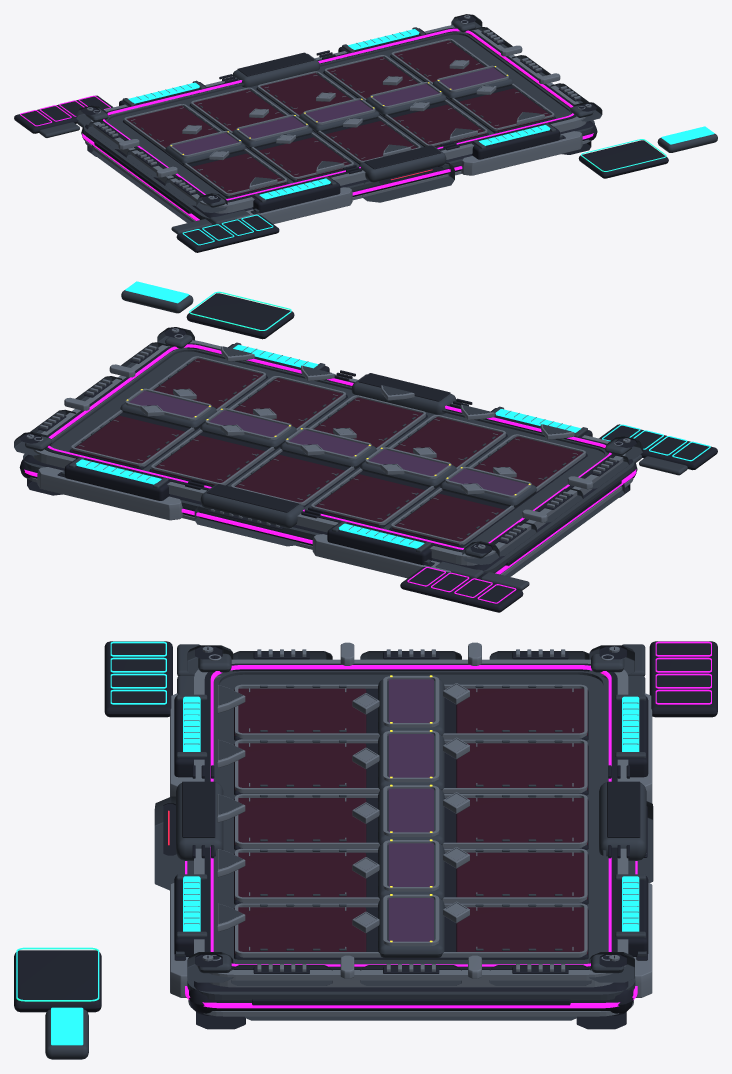
Rendered from ouroboros-board-v4.glb.
3 views of the same model, one above another, from view 1: azimuth 30°, elevation 25°; view 2: azimuth 150°, elevation 25°; view 3: azimuth 270°, elevation 25° (orthographic). The views are drawn at different scales.
Parts seen in each view (by area): view 1: Table_wine-black_field_glass, Table_graphite_titanium, Table_milled_gunmetal, Table_obsidian_polymer, Table_Location_smoked_violet, Table_magenta_inlay, Table_cyan_Data_Center_core, Table_matte_stat_screen; view 2: Table_wine-black_field_glass, Table_graphite_titanium, Table_milled_gunmetal, Table_obsidian_polymer, Table_Location_smoked_violet, Table_magenta_inlay, Table_cyan_Data_Center_core, Table_matte_stat_screen; view 3: Table_wine-black_field_glass, Table_graphite_titanium, Table_obsidian_polymer, Table_milled_gunmetal, Table_Location_smoked_violet, Table_magenta_inlay, Table_cyan_Data_Center_core, Table_matte_stat_screen.
Boxes of the visible parts, <box> form: Table_wine-black_field_glass: <box>126,40,553,196</box>; Table_graphite_titanium: <box>39,14,717,234</box>; Table_milled_gunmetal: <box>85,15,591,224</box>; Table_obsidian_polymer: <box>14,14,668,252</box>; Table_Location_smoked_violet: <box>172,67,505,154</box>; Table_magenta_inlay: <box>20,28,593,220</box>; Table_cyan_Data_Center_core: <box>128,29,714,245</box>; Table_matte_stat_screen: <box>237,52,441,169</box>; Table_wine-black_field_glass: <box>72,358,582,544</box>; Table_graphite_titanium: <box>14,290,687,590</box>; Table_milled_gunmetal: <box>26,328,633,578</box>; Table_obsidian_polymer: <box>19,293,717,612</box>; Table_Location_smoked_violet: <box>129,390,528,495</box>; Table_magenta_inlay: <box>24,344,636,603</box>; Table_cyan_Data_Center_core: <box>76,281,710,548</box>; Table_matte_stat_screen: <box>206,373,450,512</box>; Table_wine-black_field_glass: <box>234,688,587,954</box>; Table_graphite_titanium: <box>45,644,653,1059</box>; Table_obsidian_polymer: <box>14,641,717,1029</box>; Table_milled_gunmetal: <box>170,642,652,1016</box>; Table_Location_smoked_violet: <box>388,679,433,941</box>; Table_magenta_inlay: <box>185,641,711,1008</box>; Table_cyan_Data_Center_core: <box>51,641,639,1045</box>; Table_matte_stat_screen: <box>182,781,640,837</box>.
Bounding box in the file's own units: 21.2 × 1.77 × 15.24.
